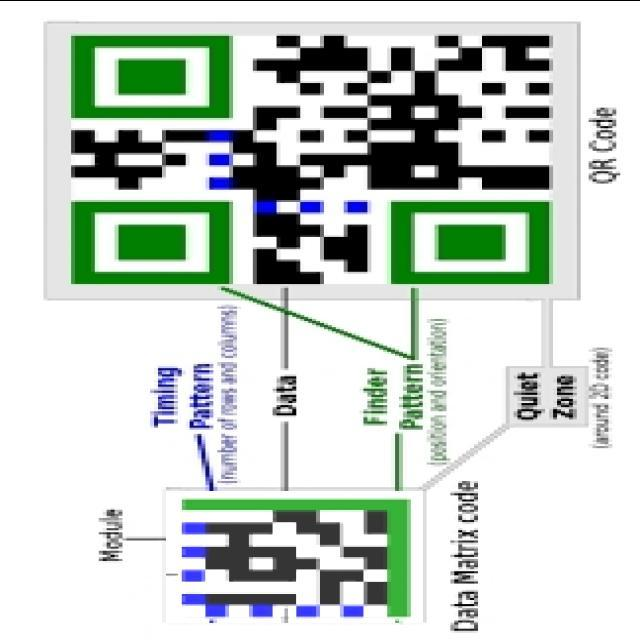Data-Matrix: (166, 490, 423, 622)
